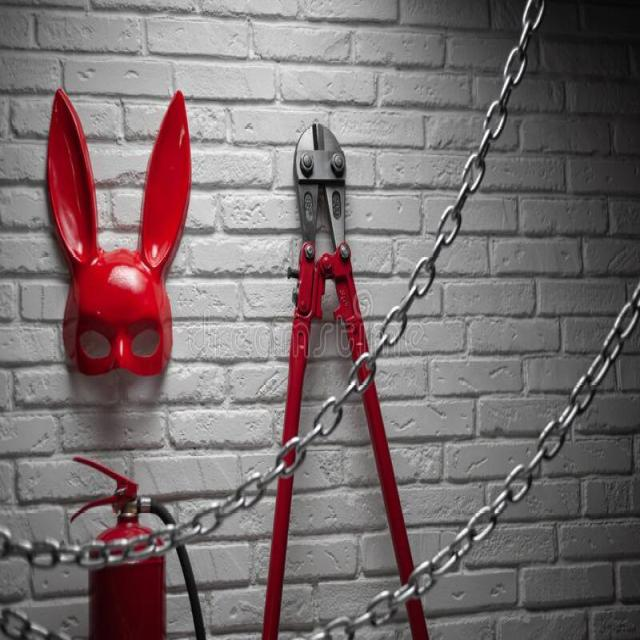fire_extinguisher: (65, 447, 208, 639)
